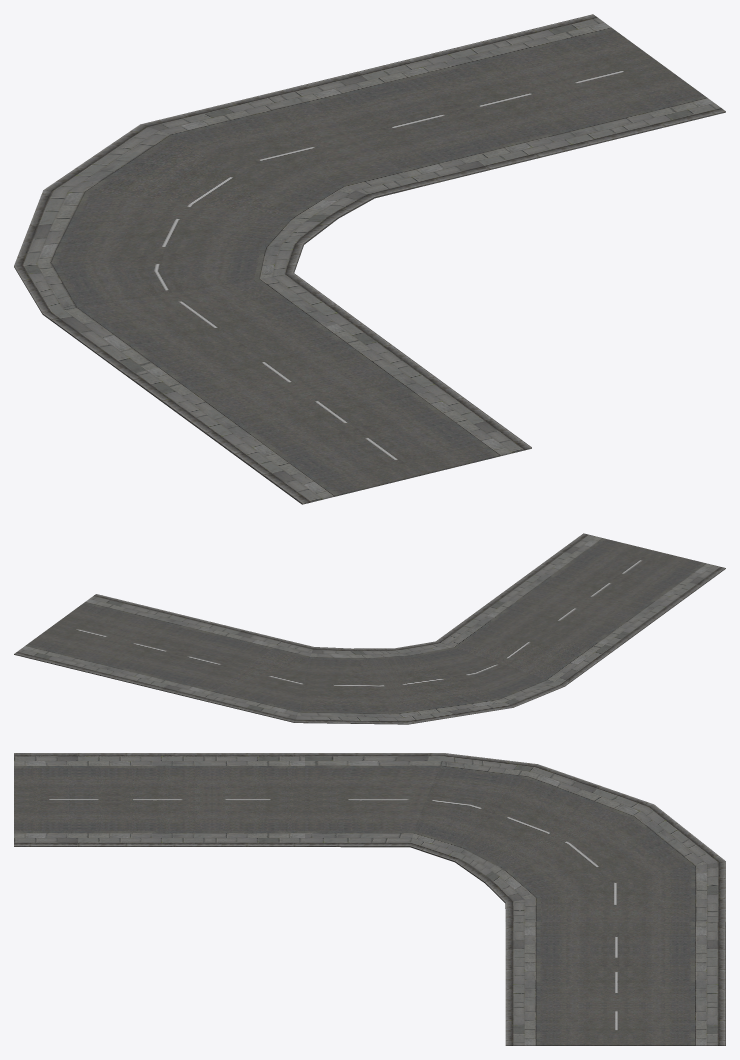
Rendered from bend_01.obj.
The picture shows the model from 3 angles, top to bottom: view 1: azimuth 30°, elevation 25°; view 2: azimuth 150°, elevation 25°; view 3: azimuth 270°, elevation 25°; orthographic projection. The views are drawn at different scales.
Visible parts, largest first — view 1: Object006; view 2: Object006; view 3: Object006.
Part boxes in pixels (left/top/right/bottom): Object006: left=14, top=14, right=725, bottom=504; Object006: left=14, top=533, right=725, bottom=724; Object006: left=14, top=753, right=725, bottom=1045.
Bounding box in the file's own units: 2467 × 5.21 × 2546.
